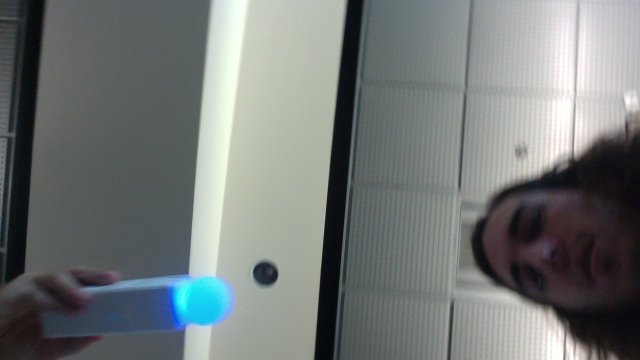wand: (180, 274, 231, 326)
